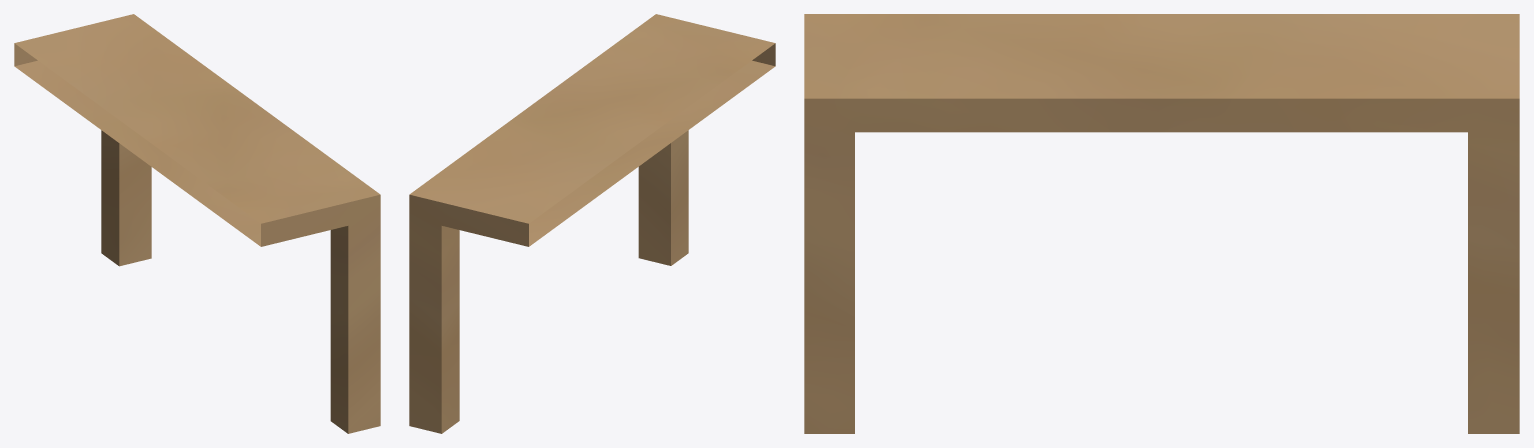
Rendered from MesaPasillo.fbx.
3 renders of one model, left to right at view 1: azimuth 30°, elevation 25°; view 2: azimuth 150°, elevation 25°; view 3: azimuth 270°, elevation 25°, orthographic. The views are drawn at different scales.
Parts seen in each view (by area): view 1: Mesa.003; view 2: Mesa.003; view 3: Mesa.003.
Boxes of the visible parts, box(x1,y1,x2,y2) form: Mesa.003: box(14, 14, 380, 433); Mesa.003: box(409, 14, 775, 433); Mesa.003: box(804, 14, 1519, 433).
Size of the model in its own units: 52.28 by 96.7 by 187.
